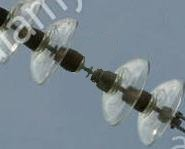gap: (29, 15, 153, 130)
